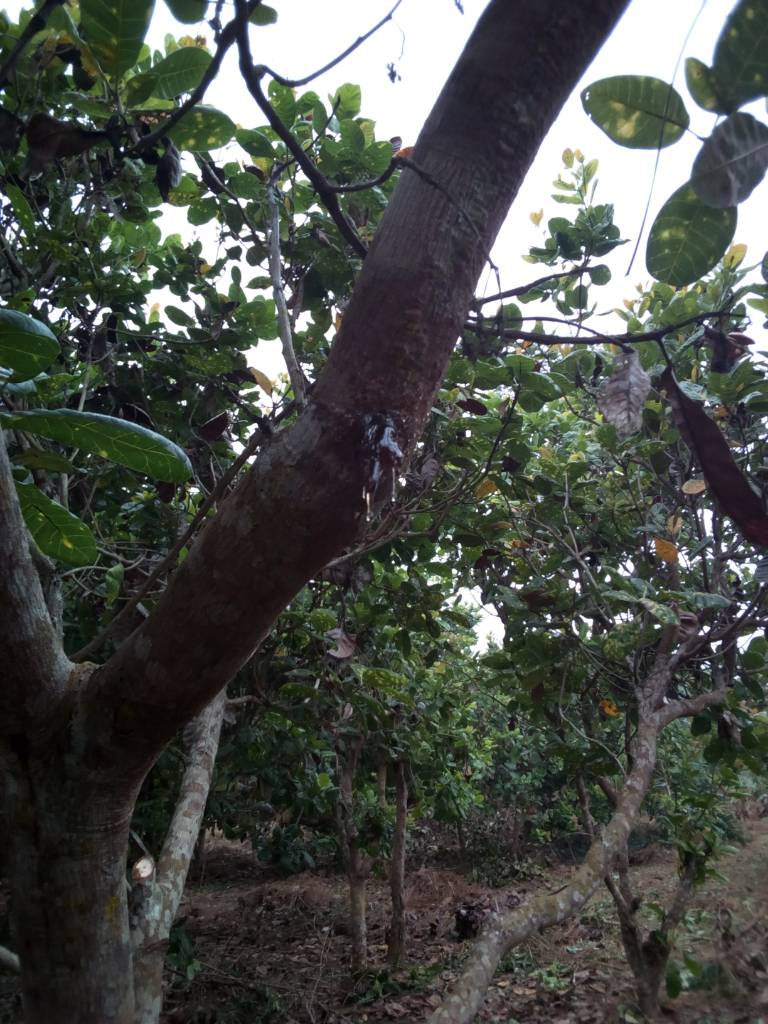Gommose: (350, 403, 415, 532)
